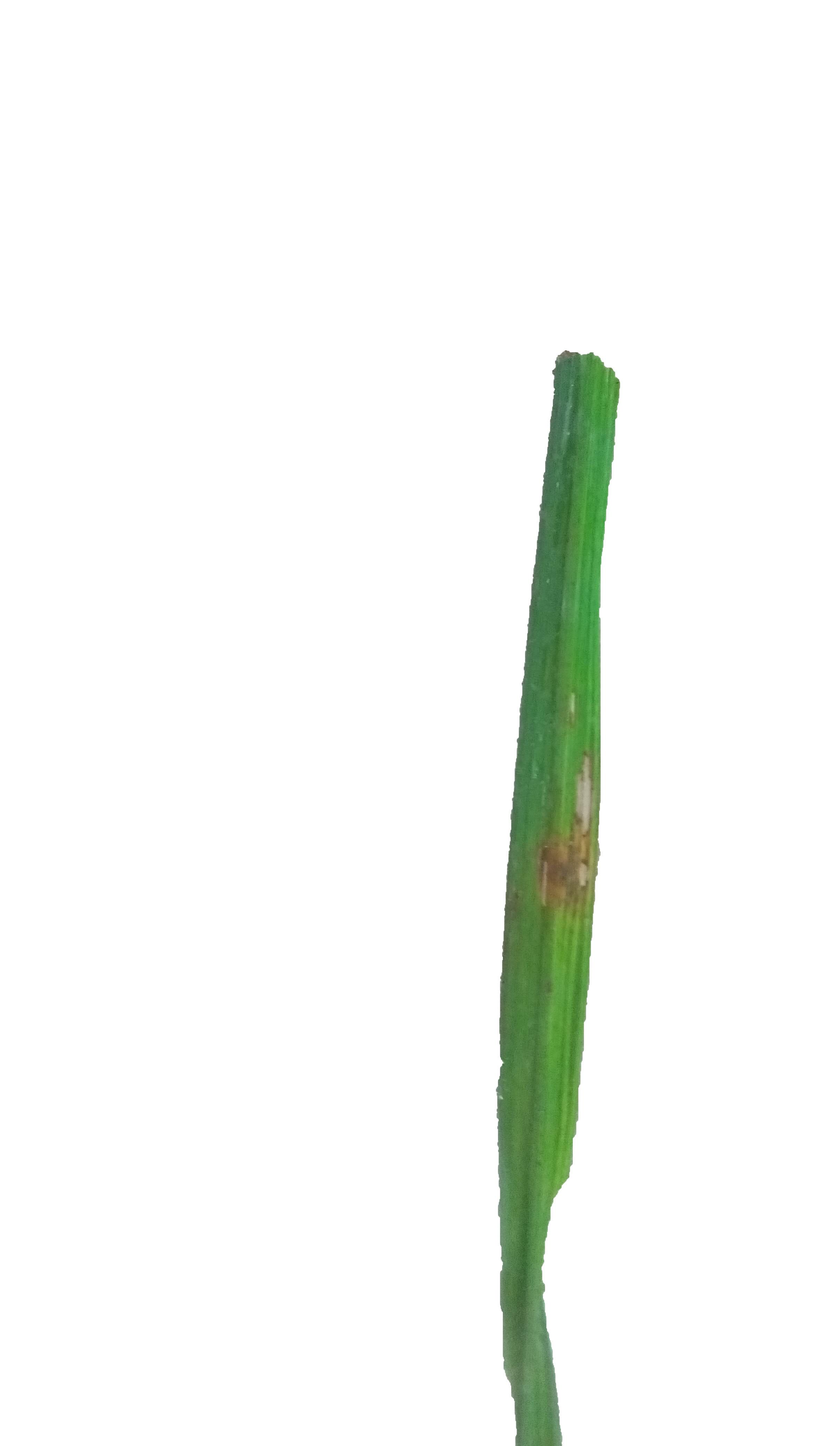Rice blast: (549, 765, 608, 914)
